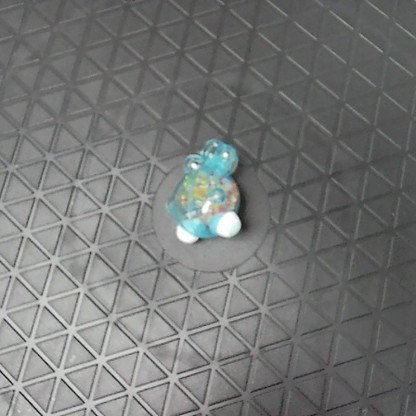bluefish: (163, 139, 246, 243)
